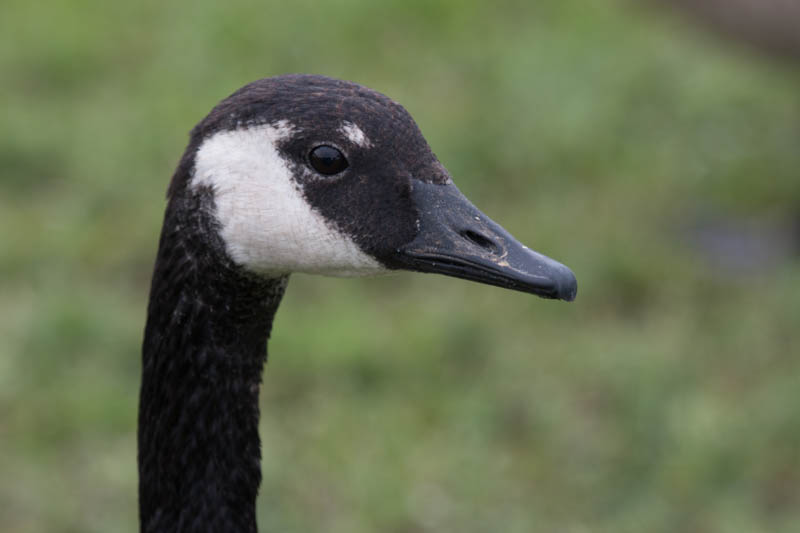goose-head: (169, 76, 578, 304)
